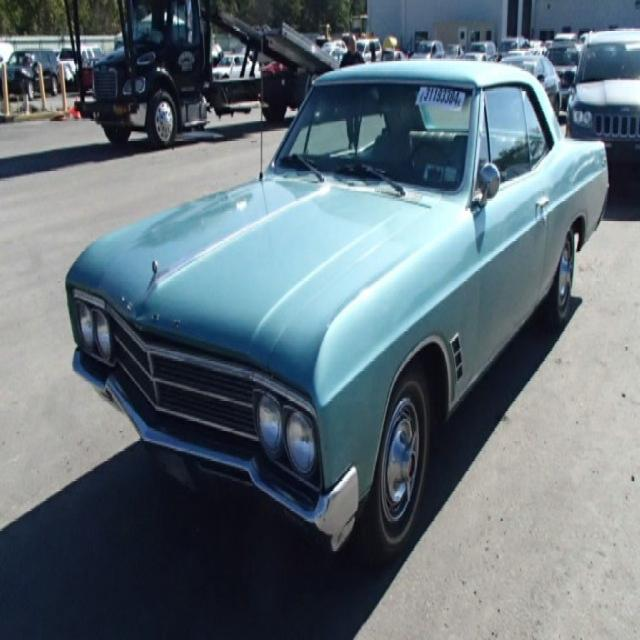car: (63, 60, 611, 559)
